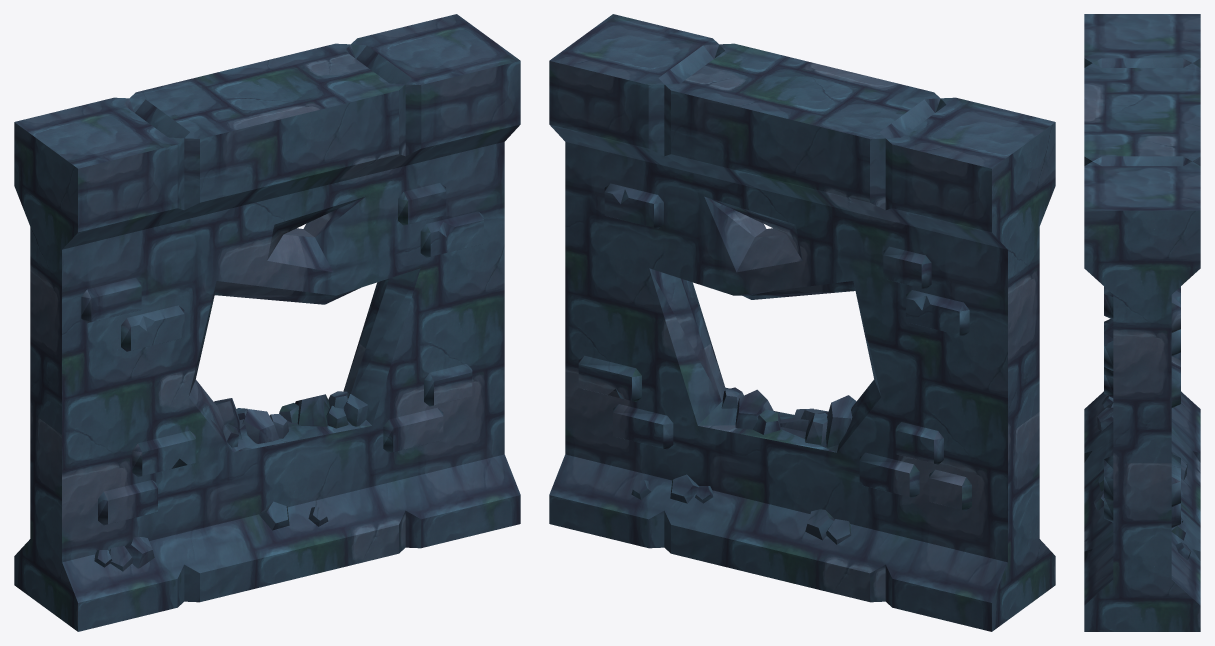
Rendered from wall_broken.gltf.
3 views of the same model, side by side, from view 1: azimuth 30°, elevation 25°; view 2: azimuth 150°, elevation 25°; view 3: azimuth 270°, elevation 25° (orthographic). The views are drawn at different scales.
Parts seen in each view (by area): view 1: wall_broken; view 2: wall_broken; view 3: wall_broken.
Boxes of the visible parts, bbox=[...] form: wall_broken: bbox=[14, 14, 520, 631]; wall_broken: bbox=[549, 14, 1055, 631]; wall_broken: bbox=[1084, 14, 1200, 631].
Bounding box in the file's own units: 4 × 4 × 1.
Materials: 1 (1 with a texture image).
